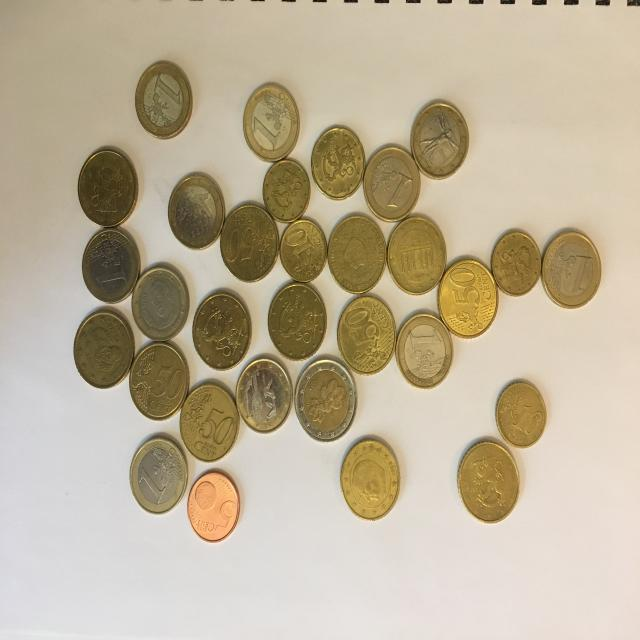10c: (307, 123, 372, 205), (491, 374, 552, 455), (260, 152, 310, 228), (278, 217, 330, 287)
1e: (127, 433, 194, 517), (541, 223, 603, 313), (164, 172, 228, 256), (411, 96, 472, 184), (233, 349, 294, 436), (393, 307, 456, 391), (240, 79, 302, 163), (78, 226, 142, 306), (362, 143, 424, 225), (132, 60, 195, 140), (133, 264, 192, 344)
2e: (292, 354, 359, 447)
50c: (452, 432, 524, 525), (173, 382, 248, 466), (265, 274, 335, 364), (214, 197, 285, 285), (333, 435, 403, 524), (386, 212, 451, 304), (75, 142, 139, 234), (71, 307, 138, 391), (332, 294, 402, 374), (438, 253, 500, 342), (188, 290, 255, 372), (126, 342, 192, 422), (327, 213, 387, 296), (490, 222, 542, 302)
5c: (180, 468, 248, 551)
